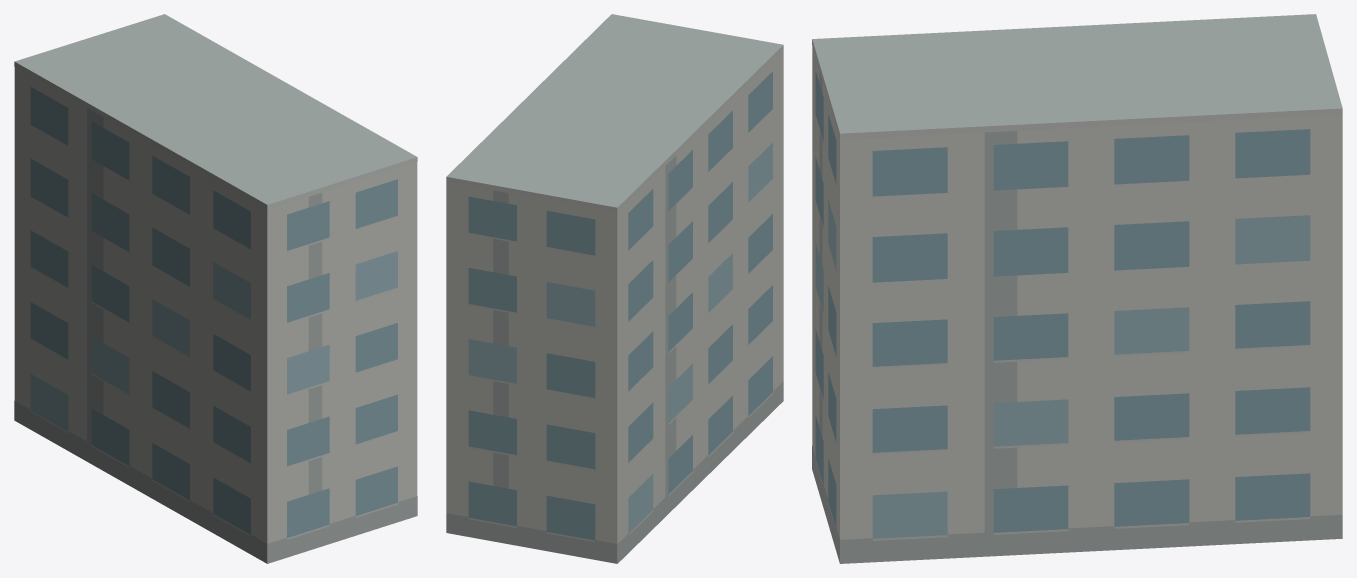
Rendered from survey-upis-32587764.glb.
3 renders of one model, left to right at view 1: azimuth 30°, elevation 25°; view 2: azimuth 150°, elevation 25°; view 3: azimuth 270°, elevation 25°, orthographic. The views are drawn at different scales.
Parts seen in each view (by area): view 1: survey-upis-32587764.tmp; view 2: survey-upis-32587764.tmp; view 3: survey-upis-32587764.tmp.
Part boxes in pixels (x1,y1,x2,y2): survey-upis-32587764.tmp: [14, 14, 417, 563]; survey-upis-32587764.tmp: [446, 14, 783, 563]; survey-upis-32587764.tmp: [812, 14, 1342, 563].
Size of the model in its own units: 10.26 by 17.2 by 19.23.
